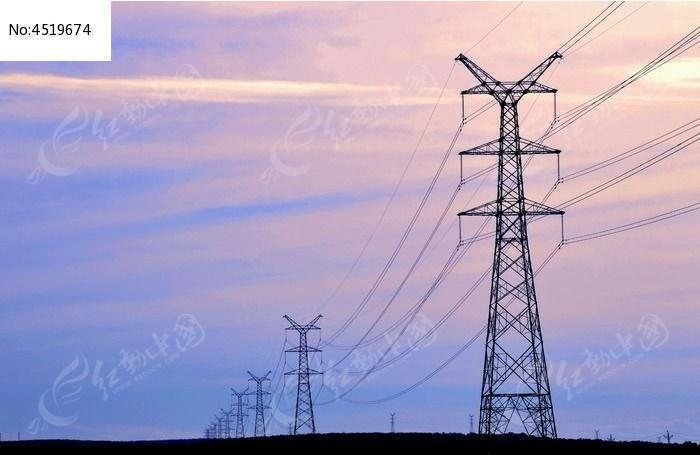power_tower: (442, 38, 581, 432), (281, 301, 332, 437), (246, 366, 279, 437), (231, 387, 250, 438), (221, 404, 236, 438)
